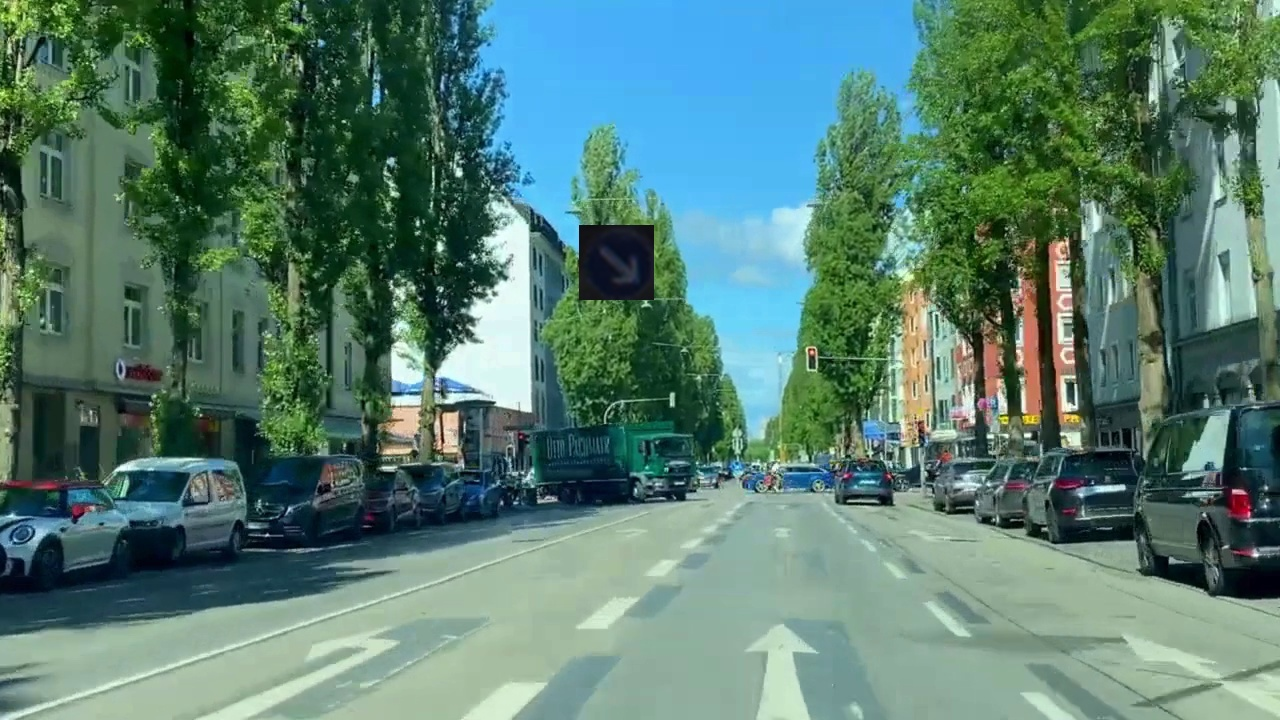Keep right: (579, 225, 654, 300)
